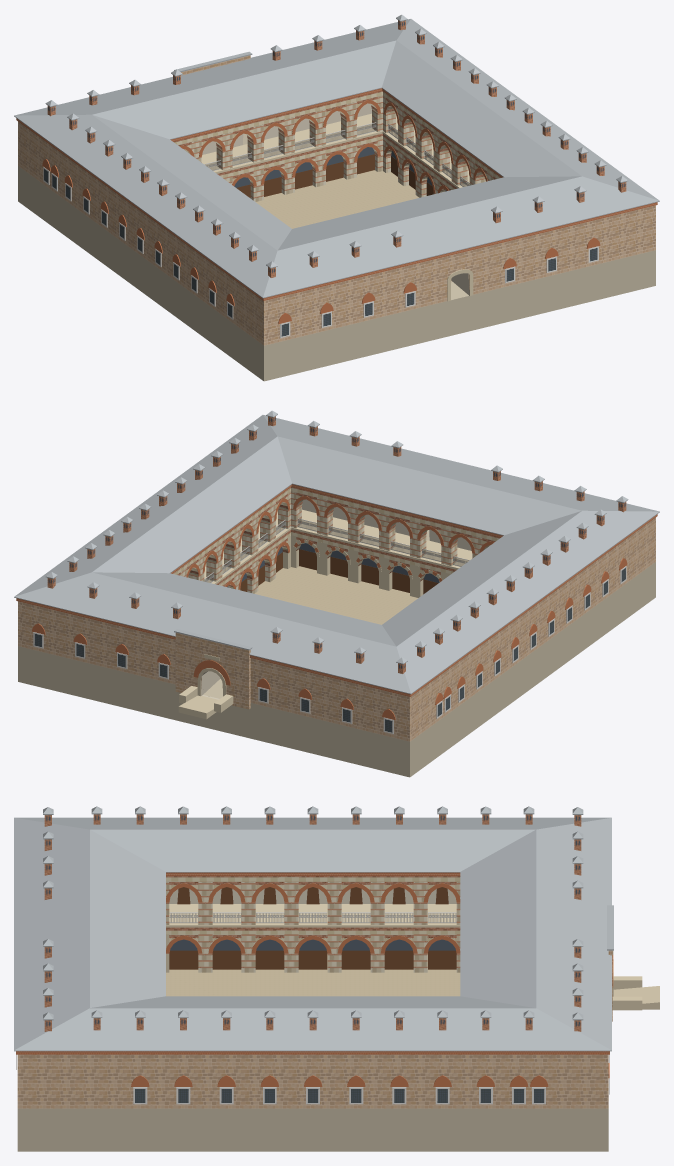
The model's file is emir-hani_v08.glb.
3 renders of one model, top to bottom at view 1: azimuth 30°, elevation 25°; view 2: azimuth 150°, elevation 25°; view 3: azimuth 270°, elevation 25°, orthographic. The views are drawn at different scales.
Visible parts, largest first — view 1: Emir_Hani, Avlu_Revaklari, Han_Avlu, Girisler; view 2: Emir_Hani, Avlu_Revaklari, Girisler, Han_Avlu; view 3: Emir_Hani, Avlu_Revaklari, Han_Avlu, Girisler.
Part boxes in pixels (left/top/right/bottom): Emir_Hani: left=14, top=14, right=659, bottom=381; Avlu_Revaklari: left=170, top=88, right=502, bottom=201; Han_Avlu: left=256, top=170, right=419, bottom=228; Girisler: left=174, top=51, right=473, bottom=301; Emir_Hani: left=14, top=410, right=659, bottom=777; Avlu_Revaklari: left=171, top=484, right=503, bottom=597; Girisler: left=174, top=629, right=252, bottom=719; Han_Avlu: left=254, top=566, right=417, bottom=624; Emir_Hani: left=14, top=806, right=611, bottom=1151; Avlu_Revaklari: left=166, top=872, right=460, bottom=972; Han_Avlu: left=166, top=954, right=460, bottom=996; Girisler: left=607, top=905, right=659, bottom=1021.
Bounding box in the file's own units: 46.6 × 11.99 × 54.65.
Materials: 18 (8 with a texture image).
